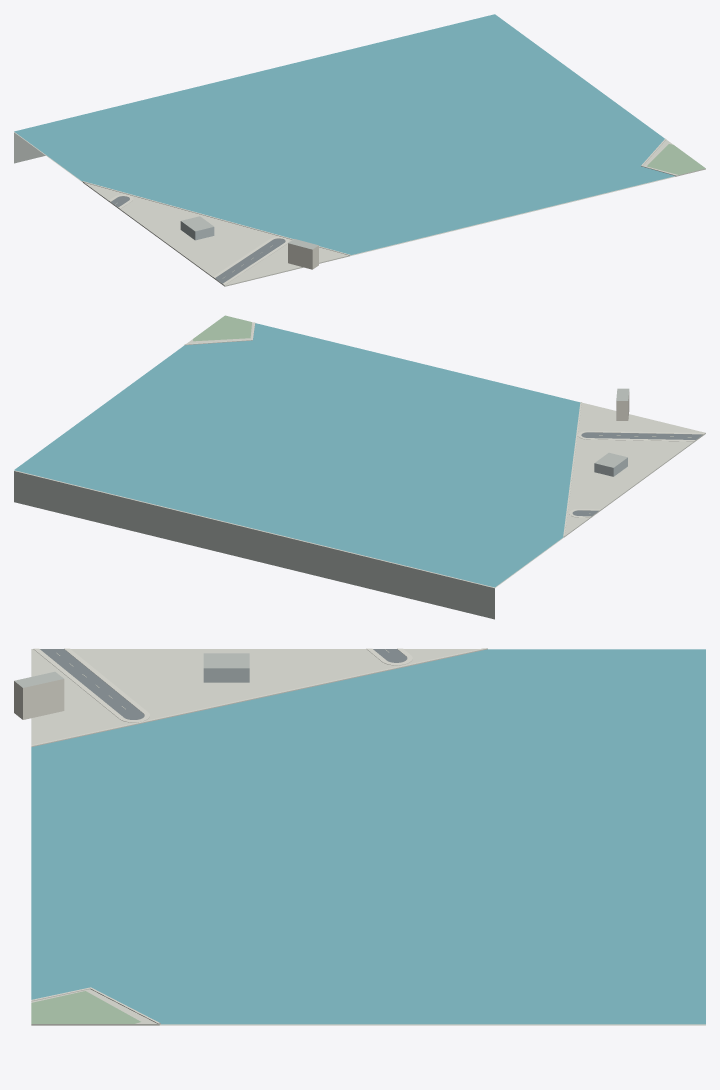
3 views of the same model, one above another, from view 1: azimuth 30°, elevation 25°; view 2: azimuth 150°, elevation 25°; view 3: azimuth 270°, elevation 25° (orthographic). The views are drawn at different scales.
Parts seen in each view (by area): view 1: city; view 2: city; view 3: city.
Boxes of the visible parts, bbox=[...] form: city: bbox=[14, 14, 705, 286]; city: bbox=[14, 315, 705, 619]; city: bbox=[14, 648, 705, 1025].
Size of the model in its own units: 500 by 52 by 390.
